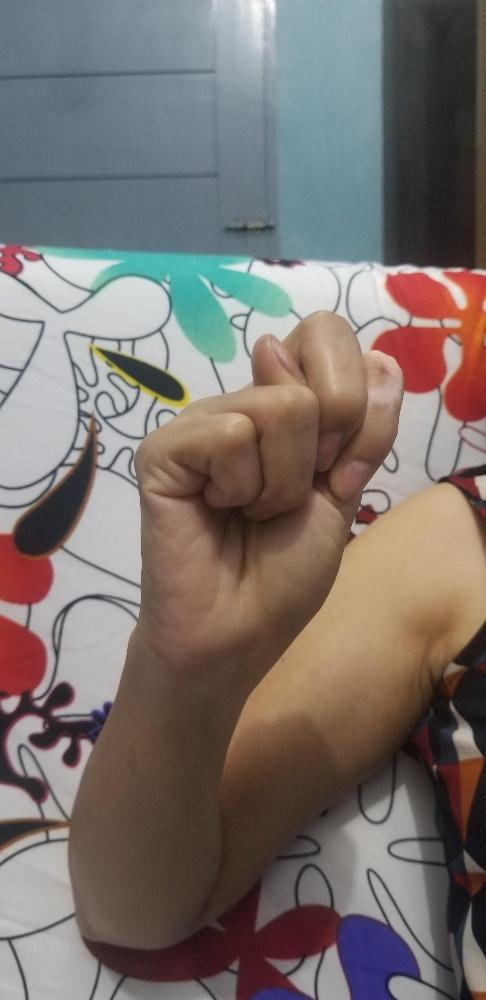n: (130, 303, 405, 663)
